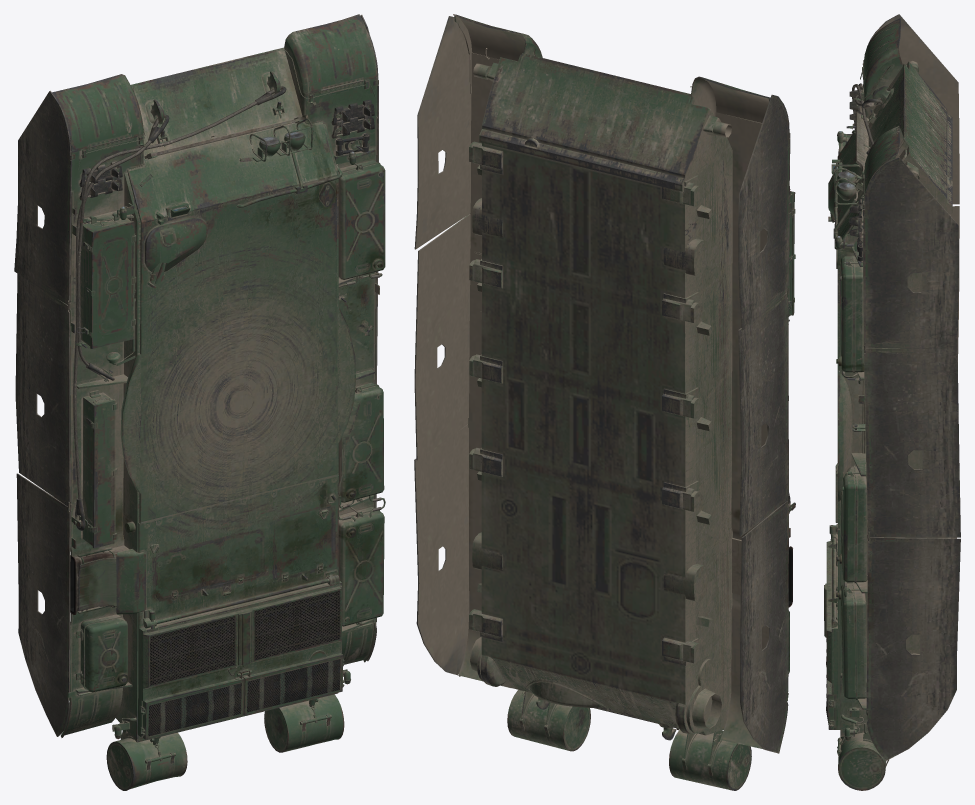
The model's file is Hull.glb.
The picture shows the model from 3 angles, left to right: view 1: azimuth 30°, elevation 25°; view 2: azimuth 150°, elevation 25°; view 3: azimuth 270°, elevation 25°; orthographic projection. The views are drawn at different scales.
Parts seen in each view (by area): view 1: set_0_group_0; view 2: set_0_group_0; view 3: set_0_group_0.
Boxes of the visible parts, x1=… form: set_0_group_0: x1=14, y1=14, x2=385, y2=790; set_0_group_0: x1=414, y1=14, x2=795, y2=790; set_0_group_0: x1=824, y1=14, x2=960, y2=790.
Size of the model in its own units: 2.96 by 6.22 by 1.17.
1 material, 1 textured.
